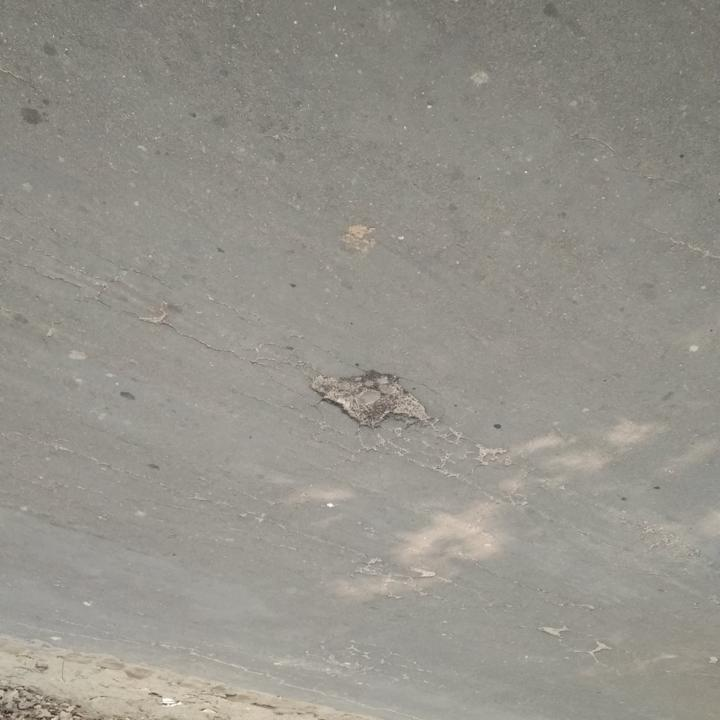pothole: (302, 372, 434, 434)
